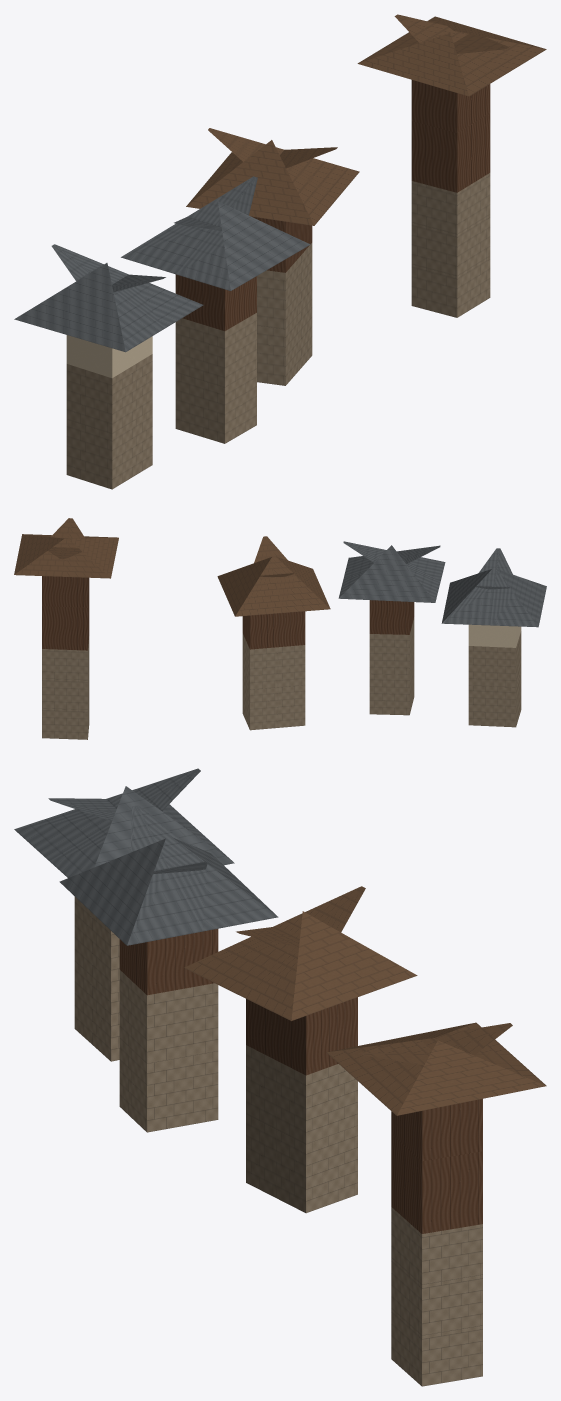
The model's file is bld_c-3_0_546.gltf.
3 views of the same model, one above another, from view 1: azimuth 30°, elevation 25°; view 2: azimuth 150°, elevation 25°; view 3: azimuth 270°, elevation 25° (orthographic). The views are drawn at different scales.
Parts seen in each view (by area): view 1: bld_c-3_0_546; view 2: bld_c-3_0_546; view 3: bld_c-3_0_546.
Boxes of the visible parts, <box> form: bld_c-3_0_546: <box>14,14,546,489</box>; bld_c-3_0_546: <box>14,518,546,739</box>; bld_c-3_0_546: <box>14,768,546,1386</box>.
Bounding box in the file's own units: 26.6 × 10.9 × 16.04.
5 materials, 5 textured.
